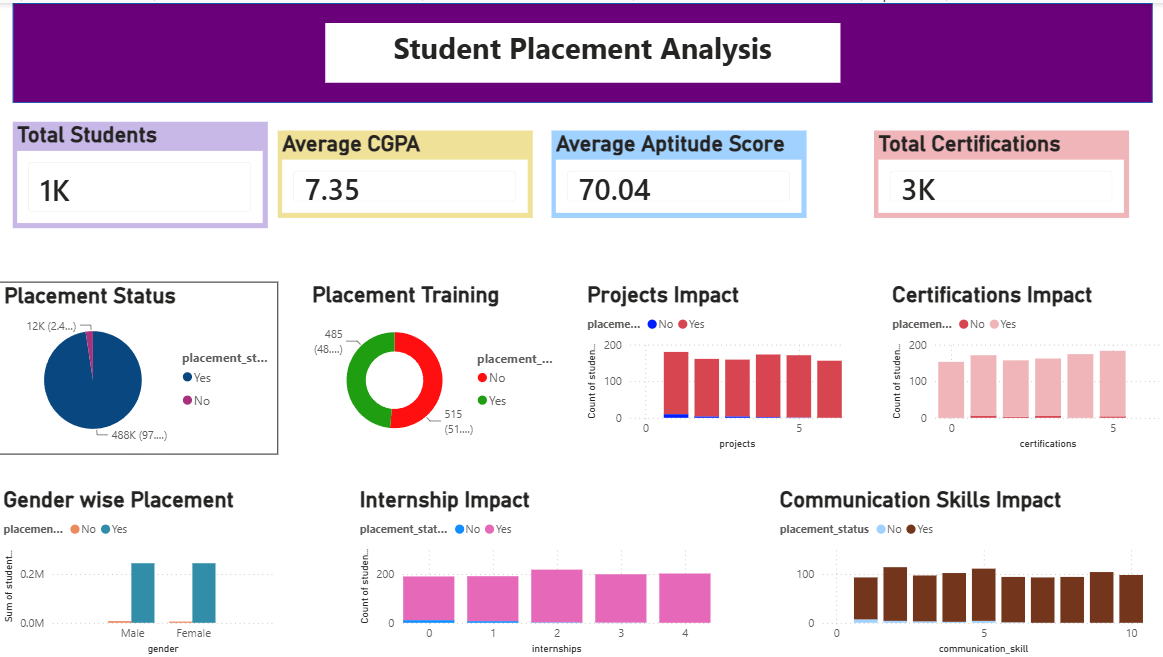

Layout of this report page (visuals, bound fields, positions):
{"tool":"powerbi","page":{"name":"Page 1","canvas":[1280,720],"ordinal":0},"visuals":[{"type":"cardVisual","title":"Average CGPA","fields":{"Data":["Avg(student_placement_dataset_1000.cgpa)"]},"box":[306,140,279.9,96.1],"z":0},{"type":"cardVisual","title":"Average Aptitude Score","fields":{"Data":["Avg(student_placement_dataset_1000.aptitude_score)"]},"box":[606.5,140,279.9,96.1],"z":1000},{"type":"cardVisual","title":"Total Certifications","fields":{"Data":["Sum(student_placement_dataset_1000.certifications)"]},"box":[960.6,140,279.9,96.1],"z":2000},{"type":"pieChart","title":" Placement Status","fields":{"Category":["student_placement_dataset_1000.placement_status"],"Y":["Sum(student_placement_dataset_1000.student_id)"]},"box":[0,306,306,189.4],"z":3000},{"type":"clusteredColumnChart","title":"Gender wise Placement","fields":{"Category":["student_placement_dataset_1000.gender"],"Series":["student_placement_dataset_1000.placement_status"],"Y":["Sum(student_placement_dataset_1000.student_id)"]},"box":[0,531,306,189.4],"z":4000},{"type":"donutChart","title":" Placement Training","fields":{"Category":["student_placement_dataset_1000.placement_training"],"Y":["CountNonNull(student_placement_dataset_1000.student_id)"]},"box":[338.9,306,279.9,189.4],"z":5000},{"type":"columnChart","title":"Internship Impact","fields":{"Category":["student_placement_dataset_1000.internships"],"Y":["CountNonNull(student_placement_dataset_1000.student_id)"],"Series":["student_placement_dataset_1000.placement_status"]},"box":[391.1,531,395.2,189.4],"z":6000},{"type":"columnChart","title":"Projects Impact","fields":{"Category":["student_placement_dataset_1000.projects"],"Y":["CountNonNull(student_placement_dataset_1000.student_id)"],"Series":["student_placement_dataset_1000.placement_status"]},"box":[640.8,306,292.3,189.4],"z":7000},{"type":"cardVisual","title":"Total Students","fields":{"Data":["CountNonNull(student_placement_dataset_1000.student_id)"]},"box":[15.1,130.4,279.9,116.6],"z":8000},{"type":"columnChart","title":"Communication Skills Impact","fields":{"Category":["student_placement_dataset_1000.communication_skill"],"Y":["CountNonNull(student_placement_dataset_1000.student_id)"],"Series":["student_placement_dataset_1000.placement_status"]},"box":[852.1,531,410.3,189.4],"z":9000},{"type":"columnChart","title":"Certifications Impact","fields":{"Category":["student_placement_dataset_1000.certifications"],"Y":["CountNonNull(student_placement_dataset_1000.student_id)"],"Series":["student_placement_dataset_1000.placement_status"]},"box":[975.6,306,304.6,189.4],"z":10000},{"type":"shape","box":[15.1,0,1251.5,109.8],"z":11000},{"type":"textbox","box":[358.1,22,565.4,65.9],"z":12000}]}

Visuals, with their boxes in screenshot pixels (x1, y1, x2, y2), scaled from the page's 1280x720 canvas onto the 1163x657 screenshot:
"Average CGPA" cardVisual: region(278, 128, 532, 215)
"Average Aptitude Score" cardVisual: region(551, 128, 805, 215)
"Total Certifications" cardVisual: region(873, 128, 1127, 215)
" Placement Status" pieChart: region(0, 279, 278, 452)
"Gender wise Placement" clusteredColumnChart: region(0, 485, 278, 656)
" Placement Training" donutChart: region(308, 279, 562, 452)
"Internship Impact" columnChart: region(355, 485, 714, 656)
"Projects Impact" columnChart: region(582, 279, 848, 452)
"Total Students" cardVisual: region(14, 119, 268, 225)
"Communication Skills Impact" columnChart: region(774, 485, 1147, 656)
"Certifications Impact" columnChart: region(886, 279, 1162, 452)
shape: region(14, 0, 1151, 100)
textbox: region(325, 20, 839, 80)
